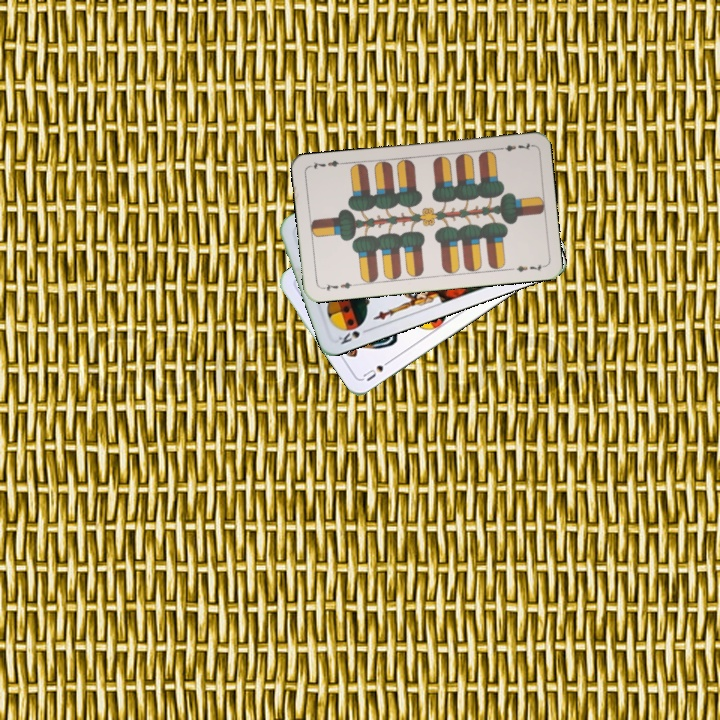E7: (318, 278, 358, 294), (494, 138, 534, 154)
SK: (334, 320, 373, 347)
SU: (359, 355, 395, 384)
